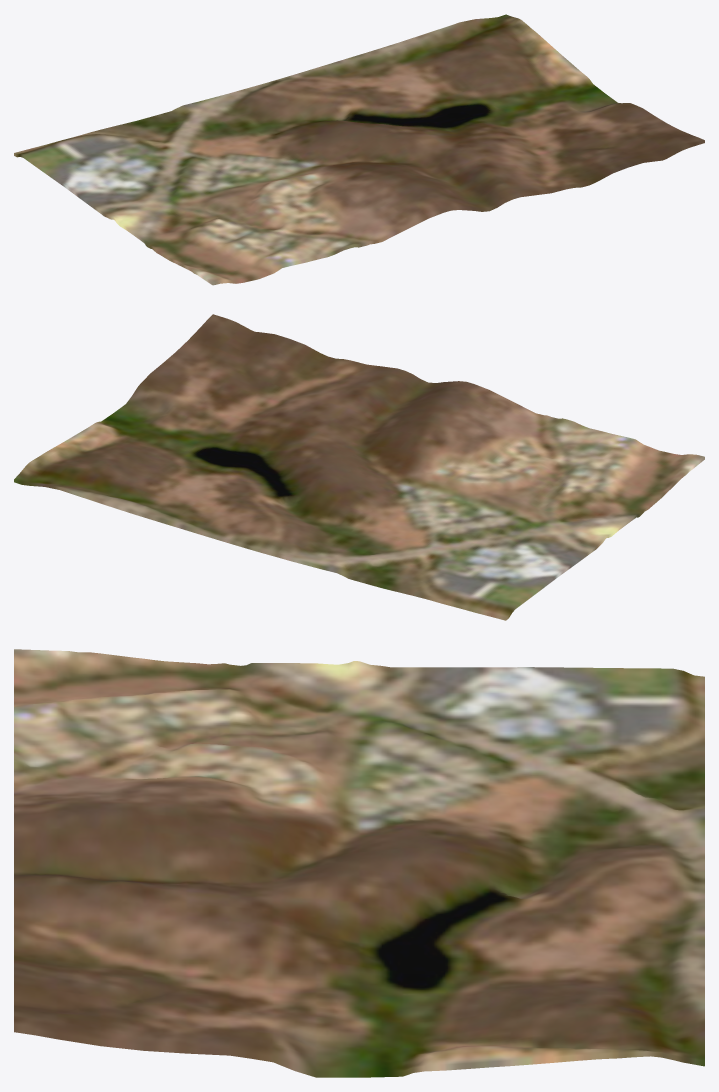
File: terrain_r6_c5_lod1.glb
3 renders of one model, top to bottom at view 1: azimuth 30°, elevation 25°; view 2: azimuth 150°, elevation 25°; view 3: azimuth 270°, elevation 25°, orthographic. The views are drawn at different scales.
Visible parts, largest first — view 1: terrain_r6_c5_lod1; view 2: terrain_r6_c5_lod1; view 3: terrain_r6_c5_lod1.
Boxes of the visible parts, left/top/right/bottom form: terrain_r6_c5_lod1: left=14, top=14, right=704, bottom=285; terrain_r6_c5_lod1: left=14, top=314, right=704, bottom=620; terrain_r6_c5_lod1: left=14, top=649, right=704, bottom=1077.
Bounding box in the file's own units: 1125 × 89.61 × 787.
1 material, 1 textured.
